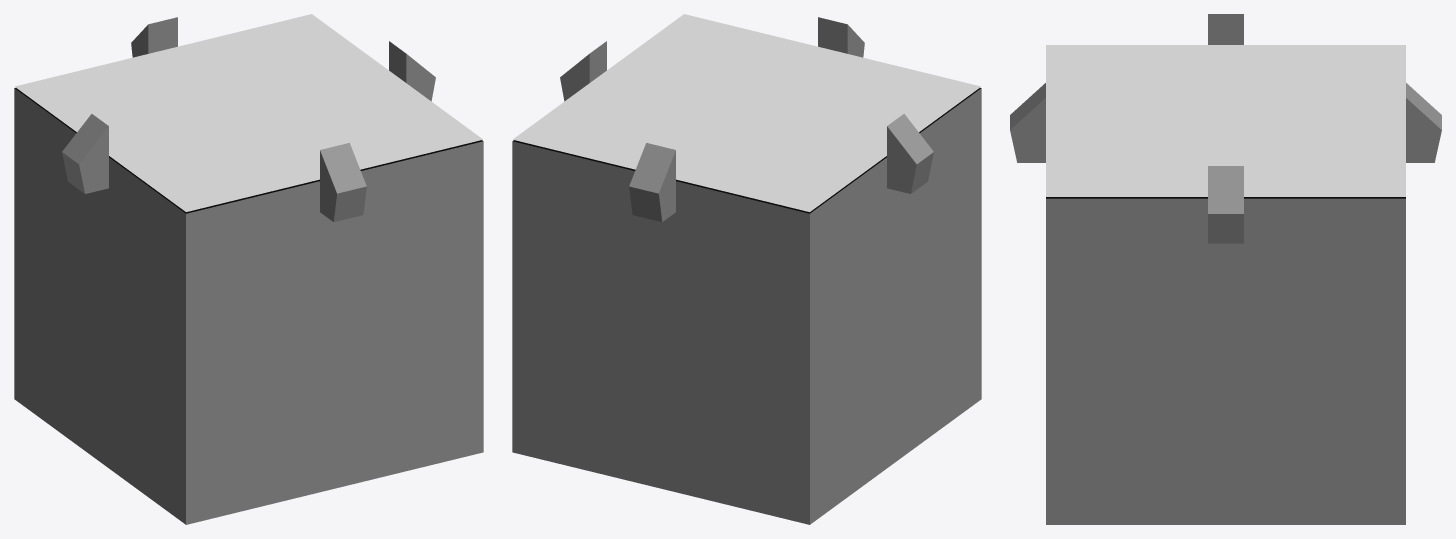
The model's file is FixedHolder.FBX.
3 renders of one model, left to right at view 1: azimuth 30°, elevation 25°; view 2: azimuth 150°, elevation 25°; view 3: azimuth 270°, elevation 25°, orthographic. The views are drawn at different scales.
Visible parts, largest first — view 1: PH_FixedHolder_MF, Plane001; view 2: PH_FixedHolder_MF, Plane001; view 3: PH_FixedHolder_MF, Plane001.
Boxes of the visible parts, x1,y1,x2,y2 form: PH_FixedHolder_MF: (14, 17, 483, 524); Plane001: (15, 14, 482, 211); PH_FixedHolder_MF: (512, 17, 981, 524); Plane001: (513, 14, 980, 211); PH_FixedHolder_MF: (1010, 14, 1441, 524); Plane001: (1046, 45, 1405, 196).
Size of the model in its own units: 0.1524 by 0.1397 by 0.1524.
Materials: 3 (1 with a texture image).
